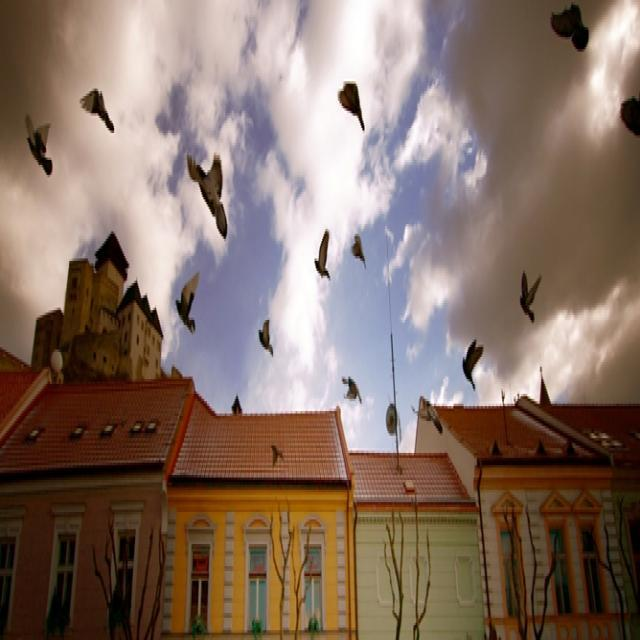bird: (167, 134, 245, 248), (75, 42, 126, 185), (448, 310, 498, 414), (163, 238, 204, 364), (15, 88, 56, 200), (306, 177, 338, 318), (325, 54, 371, 140), (548, 0, 594, 86), (510, 252, 548, 354), (338, 352, 368, 438), (254, 292, 282, 381), (342, 218, 374, 287), (264, 438, 291, 483)
